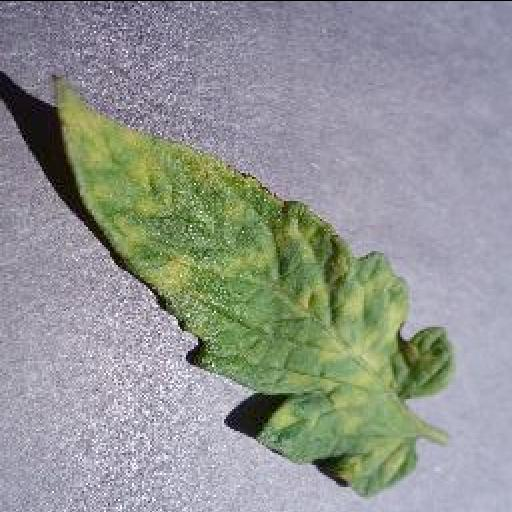disease_tomato: (50, 70, 456, 494)
